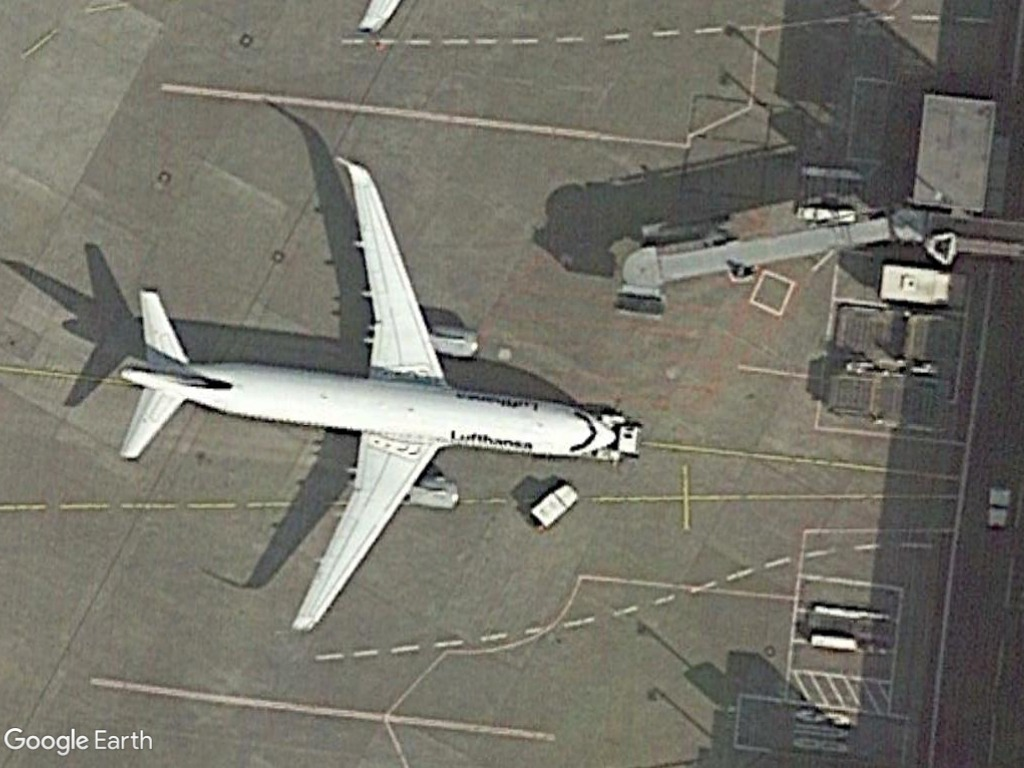airliner: (123, 151, 617, 642)
pushbacktruck: (802, 601, 894, 661)
